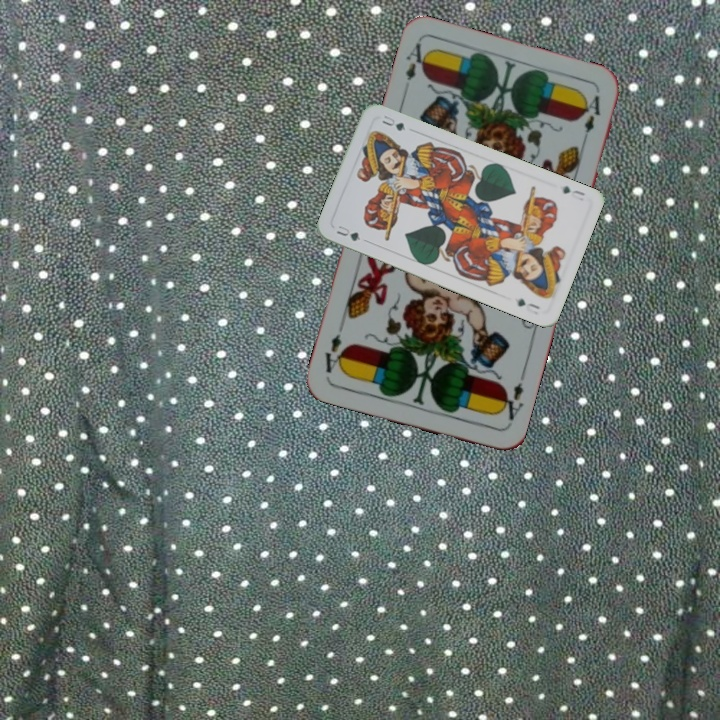EA: (495, 378, 526, 423), (401, 39, 432, 83)
GU: (332, 221, 369, 245), (558, 182, 587, 198)
